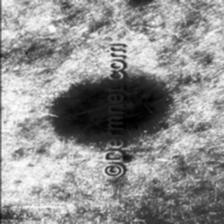Potentially Malignant Skin Tumors: (52, 83, 104, 143), (121, 76, 167, 138)
